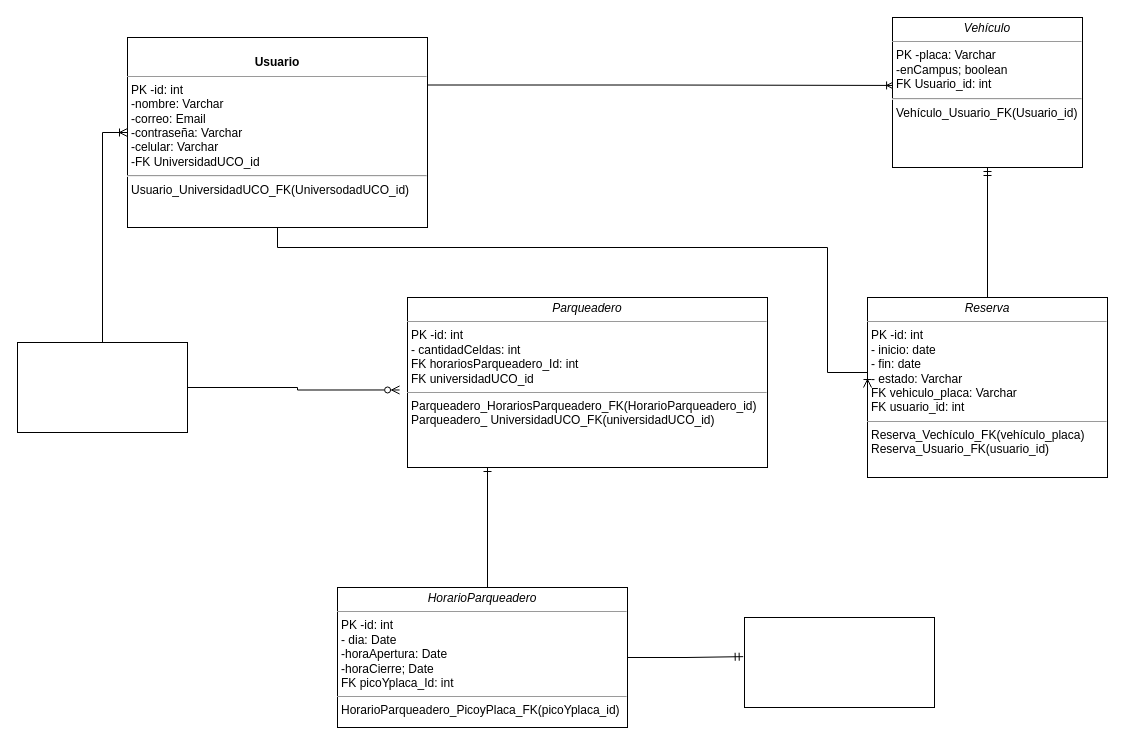
Some shapes in this 1125 by 745 pixel diagram are drawn without their labels. The centre of each missing label's shape, as x and y in pixels:
PicoyPlaca PK -id: int - numero: int: point (839, 662)
UniversidadUCO PK -id: int: point (102, 387)
